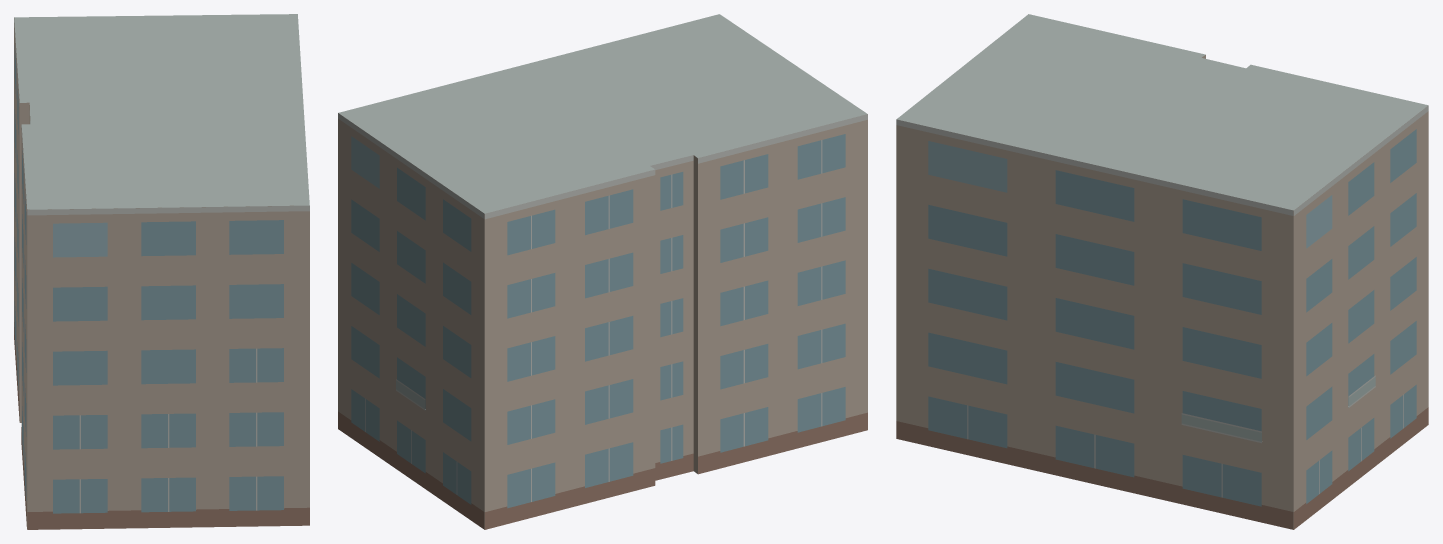
The model's file is survey-upis-32657519.glb.
3 views of the same model, side by side, from view 1: azimuth 30°, elevation 25°; view 2: azimuth 150°, elevation 25°; view 3: azimuth 270°, elevation 25° (orthographic).
Visible parts, largest first — view 1: survey-upis-32657519.tmp; view 2: survey-upis-32657519.tmp; view 3: survey-upis-32657519.tmp.
Part boxes in pixels (box(x1,y1,x2,y2)): survey-upis-32657519.tmp: box(14, 14, 309, 529); survey-upis-32657519.tmp: box(338, 14, 867, 529); survey-upis-32657519.tmp: box(896, 14, 1428, 529).
Size of the model in its own units: 18.15 by 13.75 by 20.78.
